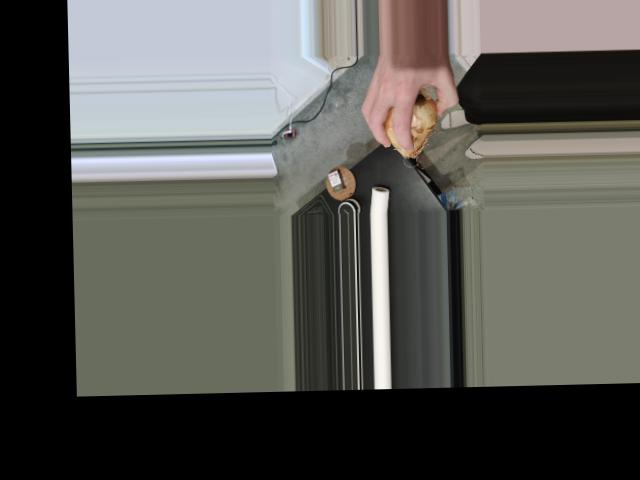onion: (385, 95, 439, 156)
